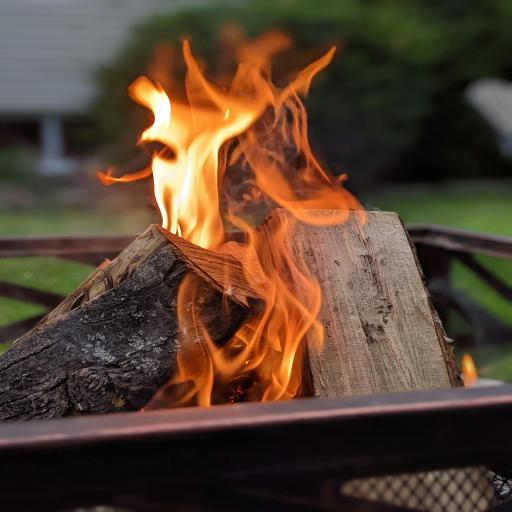campfire: (7, 12, 512, 470)
fire: (113, 36, 348, 228)
